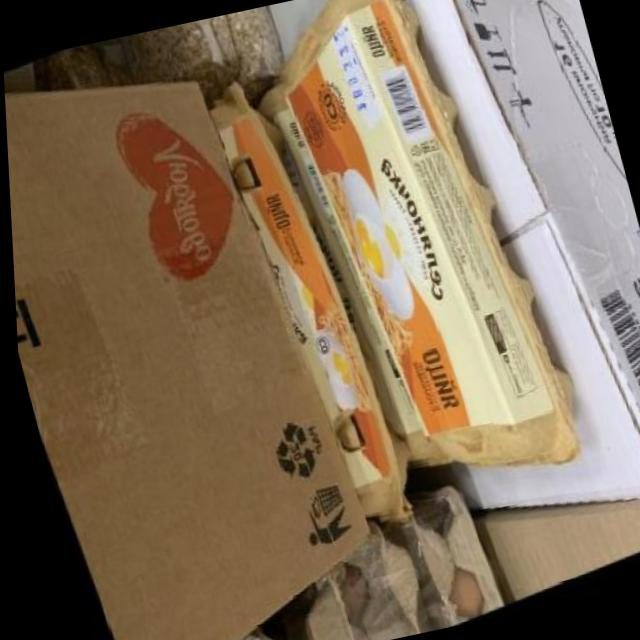Egg: (254, 0, 600, 525), (197, 57, 430, 547), (115, 11, 253, 114)
